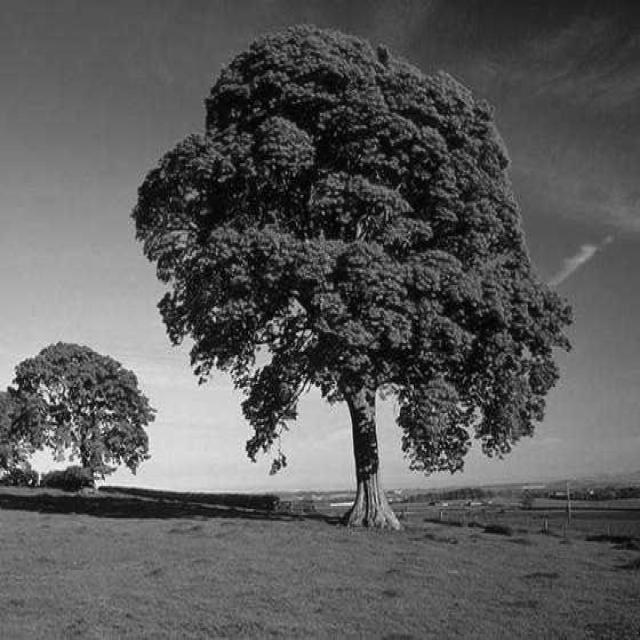Tree: (133, 26, 572, 528), (0, 342, 155, 488)
